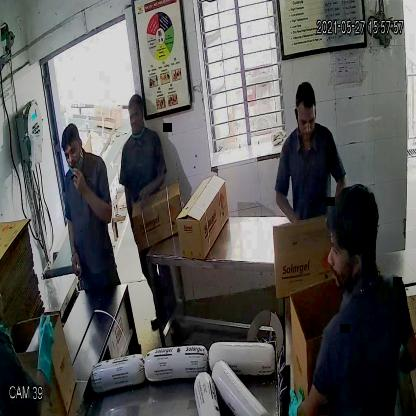no_goggles: (294, 108, 321, 130), (60, 141, 86, 162)
